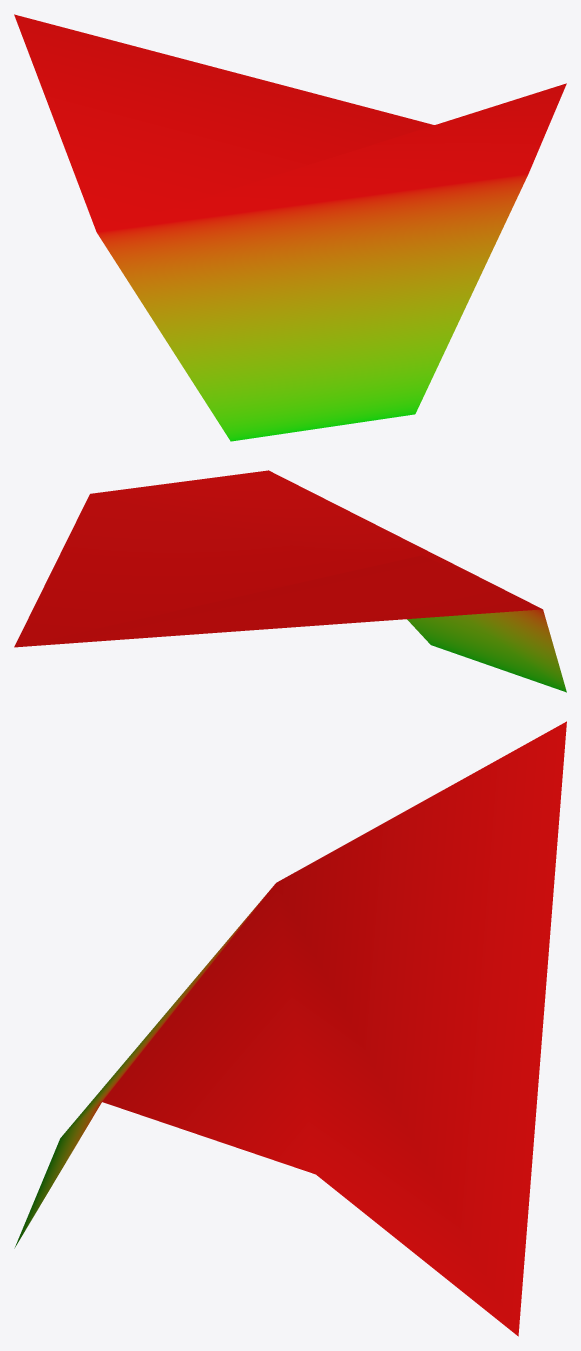
Rendered from Lady Fern_LOD6_Var8_wdvlditia.fbx.
3 views of the same model, one above another, from view 1: azimuth 30°, elevation 25°; view 2: azimuth 150°, elevation 25°; view 3: azimuth 270°, elevation 25° (orthographic). The views are drawn at different scales.
Visible parts, largest first — view 1: _ha09_Var8_LOD6; view 2: _ha09_Var8_LOD6; view 3: _ha09_Var8_LOD6.
Boxes of the visible parts, x1,y1,x2,y2 form: _ha09_Var8_LOD6: (14,14,566,441); _ha09_Var8_LOD6: (14,470,566,692); _ha09_Var8_LOD6: (14,721,566,1336).
Size of the model in its own units: 36.46 by 20.98 by 26.3.
